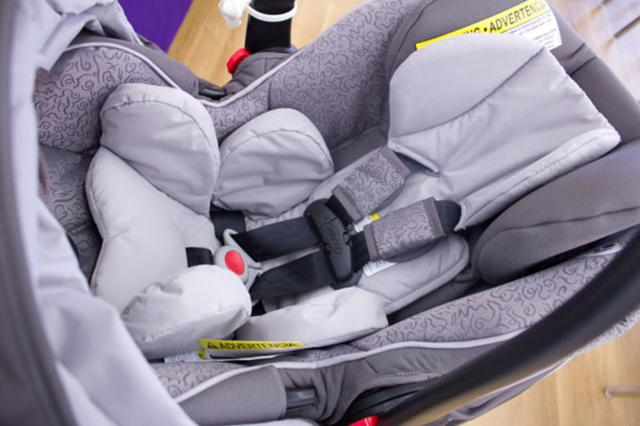Seatbelt: (181, 144, 463, 320), (246, 0, 298, 56)
